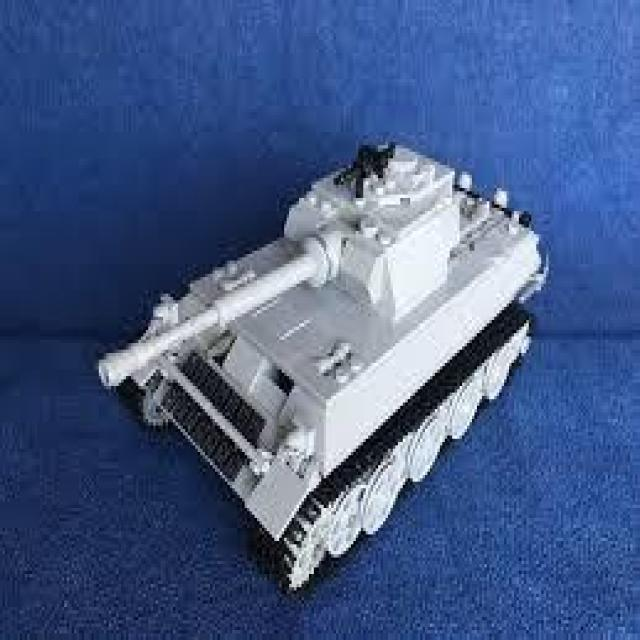Tanks: (96, 144, 548, 596)
